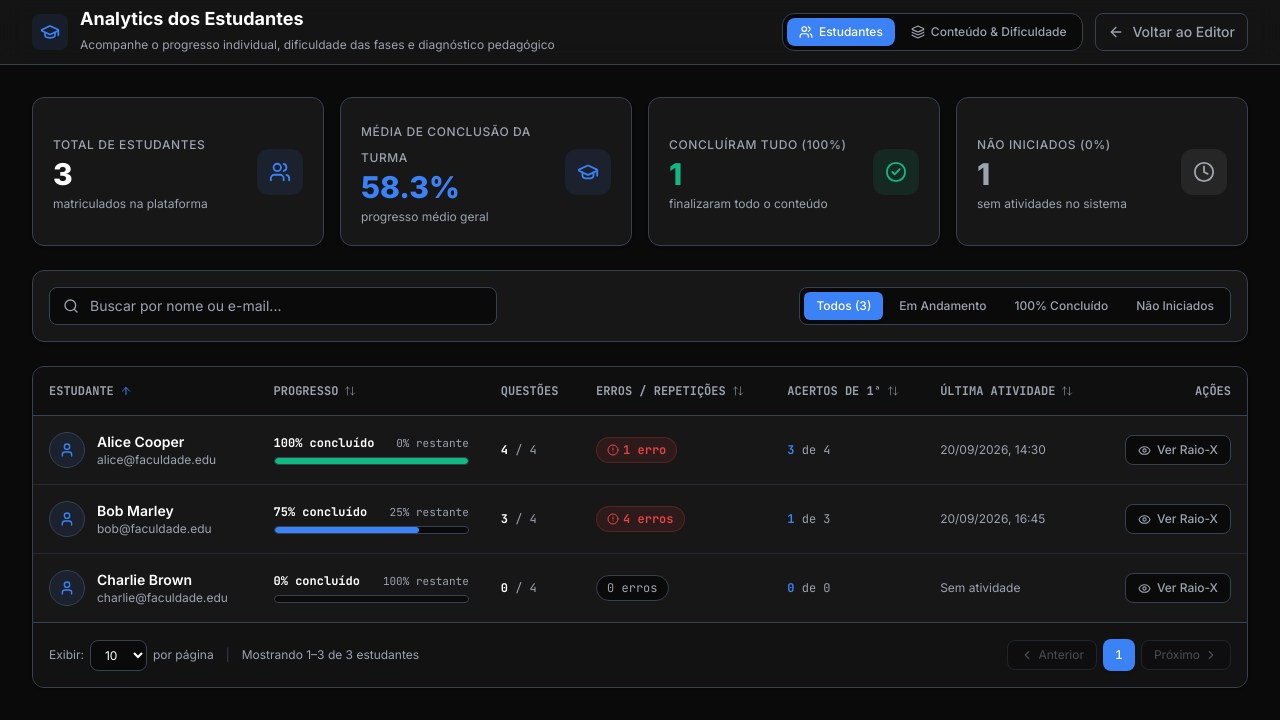
Test: StudentAnalyticsDashboard Interface (SPEC-007 v2.8.0 - TDD Fase Vermelha) › deve permitir filtrar por status (Todos, Em Andamento, 100% Concluído, Não Iniciados)
# Filtrar por "Não Iniciados"
Click the button "Não Iniciados". click: (1175, 306)
box: top-left (1124, 292), bottom-right (1226, 320)
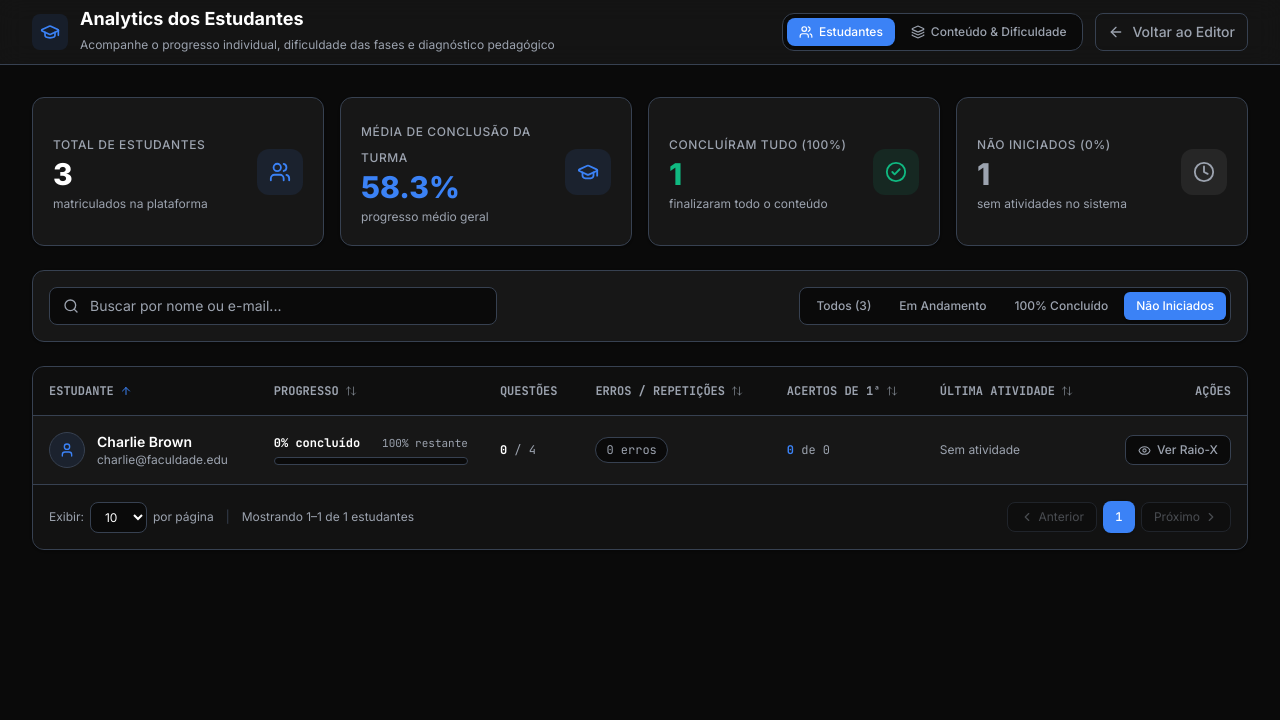
Expected: the text "Charlie Brown" is shown, top-left (97, 433), bottom-right (192, 450)
Now the text "Alice Cooper" is gone
Now the text "Bob Marley" is gone
